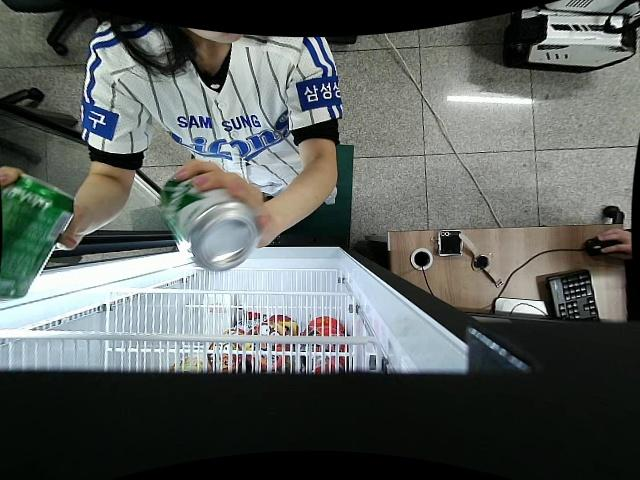00_hand: (172, 158, 276, 252), (0, 161, 83, 252)
12_chilsungCider: (159, 172, 260, 273), (0, 173, 75, 300)
